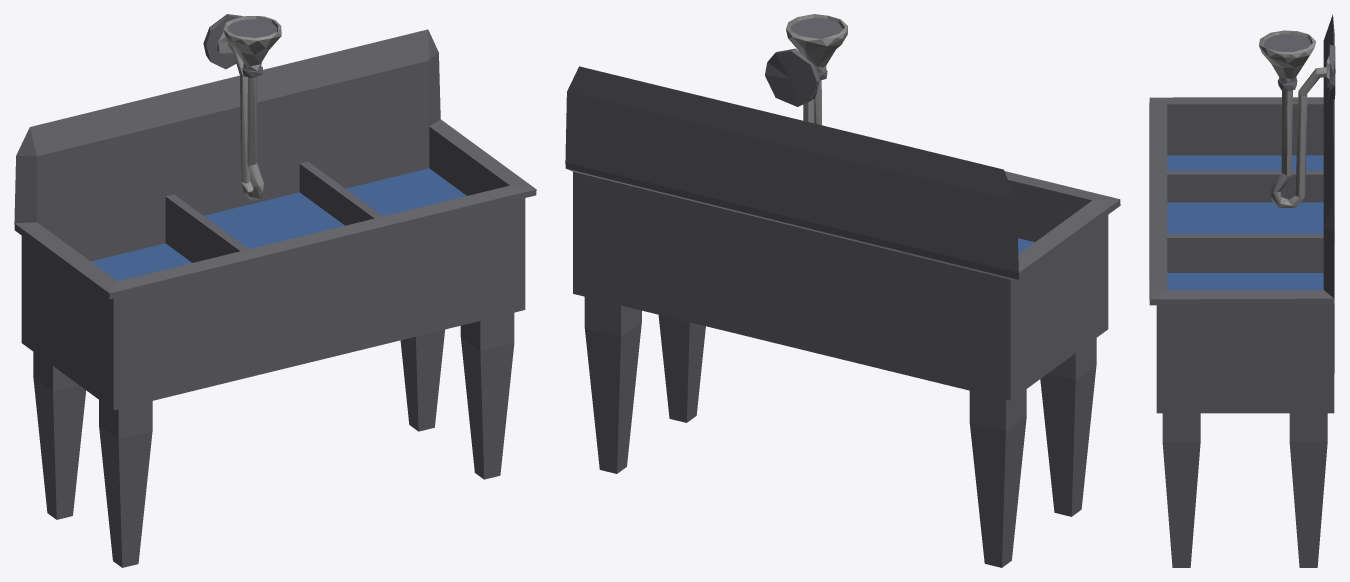
The model's file is triple_sink.glb.
3 views of the same model, side by side, from view 1: azimuth 30°, elevation 25°; view 2: azimuth 150°, elevation 25°; view 3: azimuth 270°, elevation 25° (orthographic). The views are drawn at different scales.
Parts seen in each view (by area): view 1: TripleSink; view 2: TripleSink; view 3: TripleSink.
Part boxes in pixels (x1,y1,x2,y2): TripleSink: [14, 14, 536, 567]; TripleSink: [565, 14, 1120, 567]; TripleSink: [1149, 14, 1335, 567].
Size of the model in its own units: 7.08 by 7.15 by 2.76.
